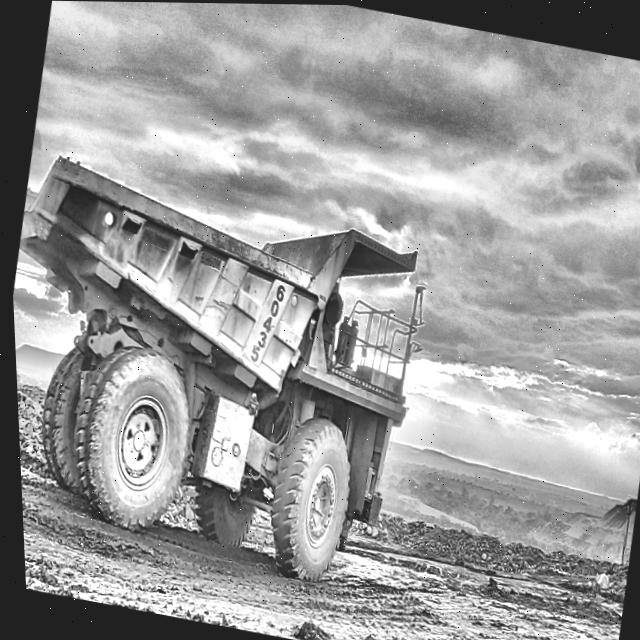dump_truck: (17, 157, 419, 580)
